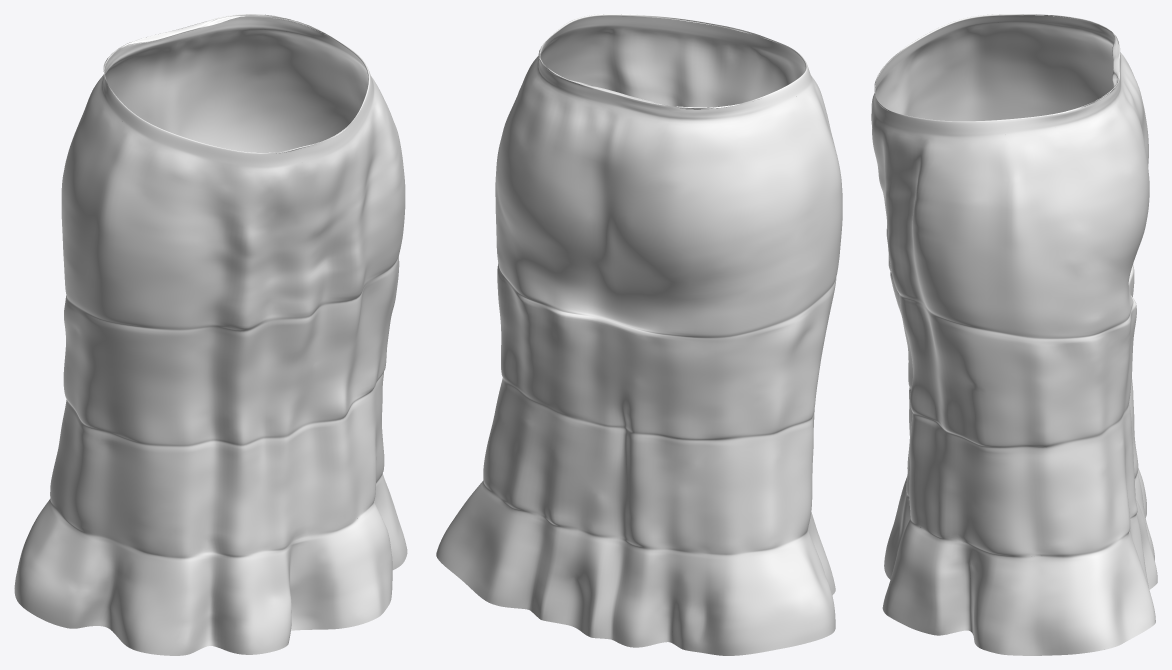
The model's file is Skirt.glb.
3 renders of one model, left to right at view 1: azimuth 30°, elevation 25°; view 2: azimuth 150°, elevation 25°; view 3: azimuth 270°, elevation 25°, orthographic. The views are drawn at different scales.
Visible parts, largest first — view 1: BardotSkirt_8467.002; view 2: BardotSkirt_8467.002; view 3: BardotSkirt_8467.002.
Boxes of the visible parts, x1,y1,x2,y2 form: BardotSkirt_8467.002: (14, 14, 407, 655); BardotSkirt_8467.002: (436, 14, 842, 655); BardotSkirt_8467.002: (871, 14, 1157, 655).
Bounding box in the file's own units: 12.63 × 17.31 × 8.55.
Materials: 1 (1 with a texture image).
